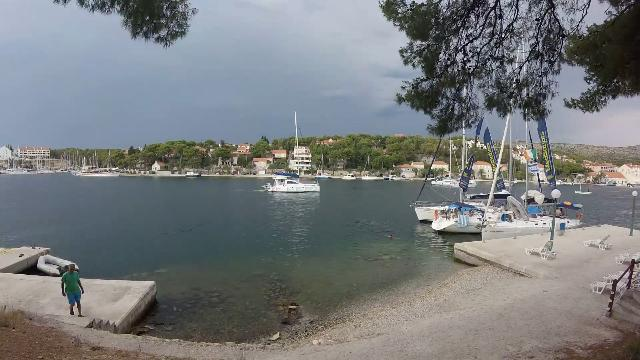Sailboat: (258, 174, 328, 198)
